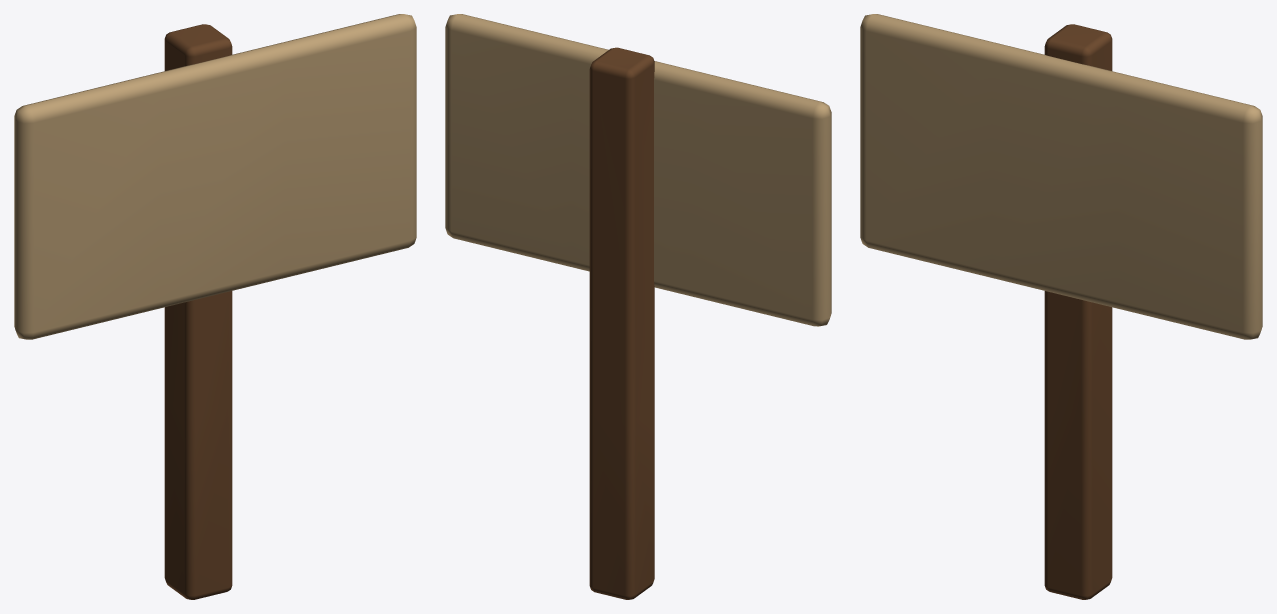
Rendered from furn_dp_sign.glb.
3 views of the same model, side by side, from view 1: azimuth 30°, elevation 25°; view 2: azimuth 150°, elevation 25°; view 3: azimuth 330°, elevation 25° (orthographic). The views are drawn at different scales.
Parts seen in each view (by area): view 1: furn_dp_sign_main; view 2: furn_dp_sign_main; view 3: furn_dp_sign_main.
Boxes of the visible parts, x1,y1,x2,y2 form: furn_dp_sign_main: [14, 14, 416, 599]; furn_dp_sign_main: [445, 14, 831, 599]; furn_dp_sign_main: [860, 14, 1262, 599].
Size of the model in its own units: 0.68 by 0.9 by 0.11.
